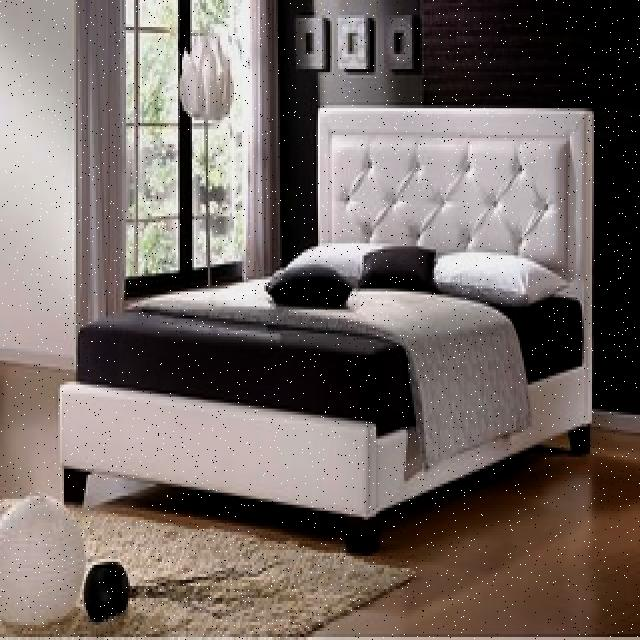bed: (66, 228, 567, 412)
